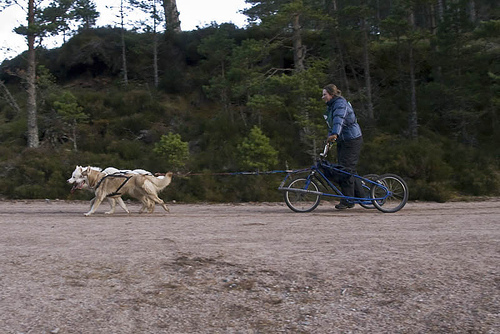dog: (74, 166, 174, 217), (67, 164, 168, 214)
